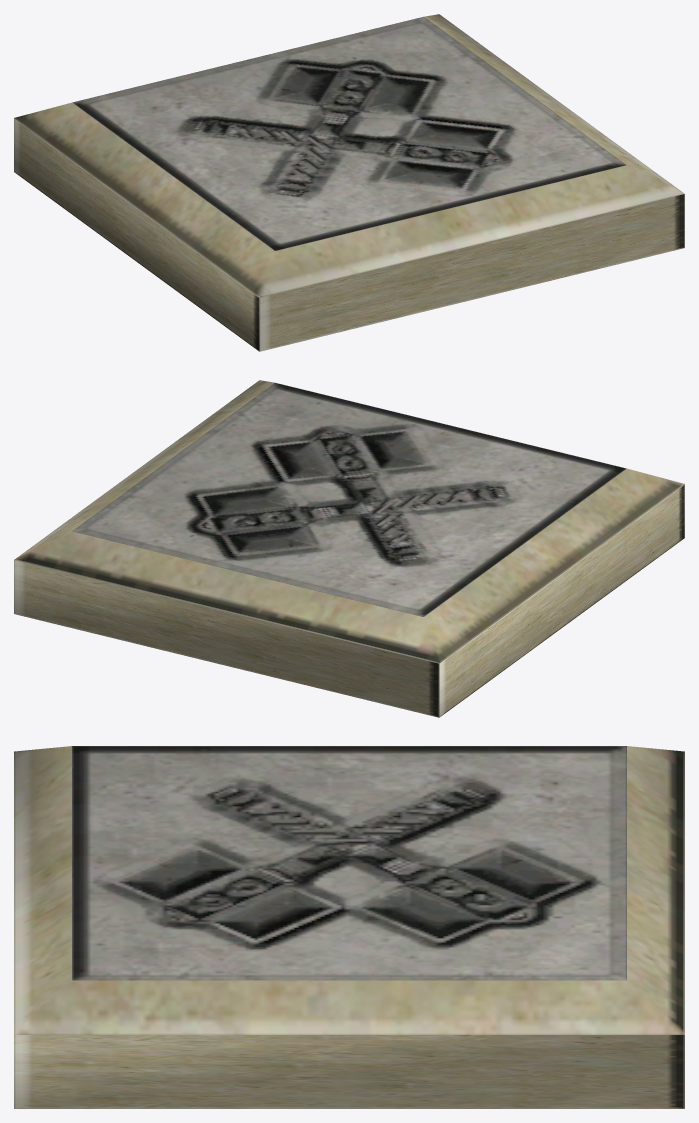
Rendered from FLOOR_RUIN_COOLER_FLOOR_RUIN_COOLER01.fbx.
3 renders of one model, top to bottom at view 1: azimuth 30°, elevation 25°; view 2: azimuth 150°, elevation 25°; view 3: azimuth 270°, elevation 25°, orthographic. The views are drawn at different scales.
Parts seen in each view (by area): view 1: FLOOR_RUIN_COOLER_FLOOR_RUIN_COOLER01; view 2: FLOOR_RUIN_COOLER_FLOOR_RUIN_COOLER01; view 3: FLOOR_RUIN_COOLER_FLOOR_RUIN_COOLER01.
Part boxes in pixels (<box>): FLOOR_RUIN_COOLER_FLOOR_RUIN_COOLER01: <box>14,14,684,351</box>; FLOOR_RUIN_COOLER_FLOOR_RUIN_COOLER01: <box>14,380,684,717</box>; FLOOR_RUIN_COOLER_FLOOR_RUIN_COOLER01: <box>14,746,684,1108</box>.
Bounding box in the file's own units: 15000 × 2565 × 15000.
Materials: 2 (2 with a texture image).
